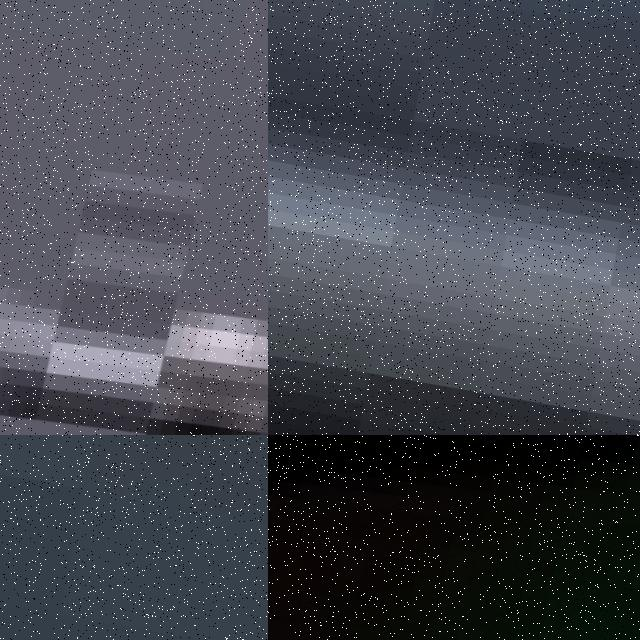0: (0, 0, 268, 435)
drone: (268, 435, 640, 640)
